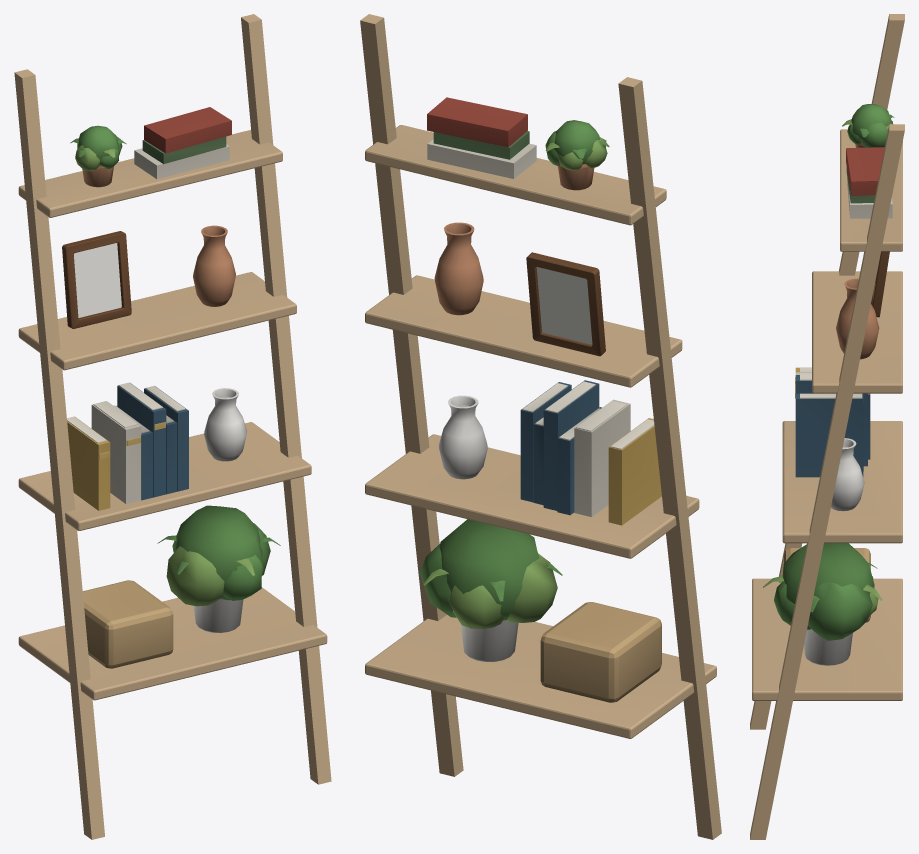
Rendered from ladderShelf.glb.
3 views of the same model, side by side, from view 1: azimuth 30°, elevation 25°; view 2: azimuth 150°, elevation 25°; view 3: azimuth 270°, elevation 25° (orthographic). The views are drawn at different scales.
Parts seen in each view (by area): view 1: ladderShelf; view 2: ladderShelf; view 3: ladderShelf.
Boxes of the visible parts, box(x1,y1,x2,y2) form: ladderShelf: box(14, 14, 331, 839); ladderShelf: box(360, 14, 721, 839); ladderShelf: box(750, 14, 904, 839).
Size of the model in its own units: 0.635 by 1.8 by 0.356.
